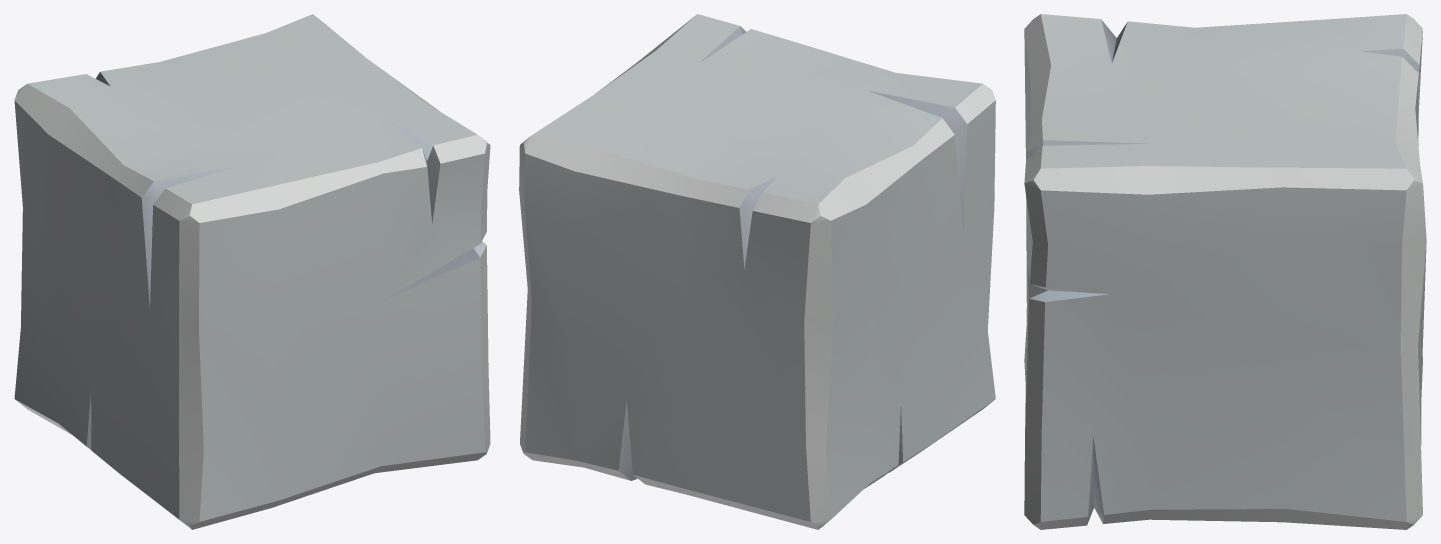
The model's file is IceBlock.fbx.
3 views of the same model, side by side, from view 1: azimuth 30°, elevation 25°; view 2: azimuth 150°, elevation 25°; view 3: azimuth 270°, elevation 25° (orthographic). The views are drawn at different scales.
Parts seen in each view (by area): view 1: Box001; view 2: Box001; view 3: Box001.
Boxes of the visible parts, x1,y1,x2,y2 form: Box001: (14,14,490,529); Box001: (519,14,995,529); Box001: (1024,14,1426,529).
Size of the model in its own units: 2 by 1.98 by 1.99.
